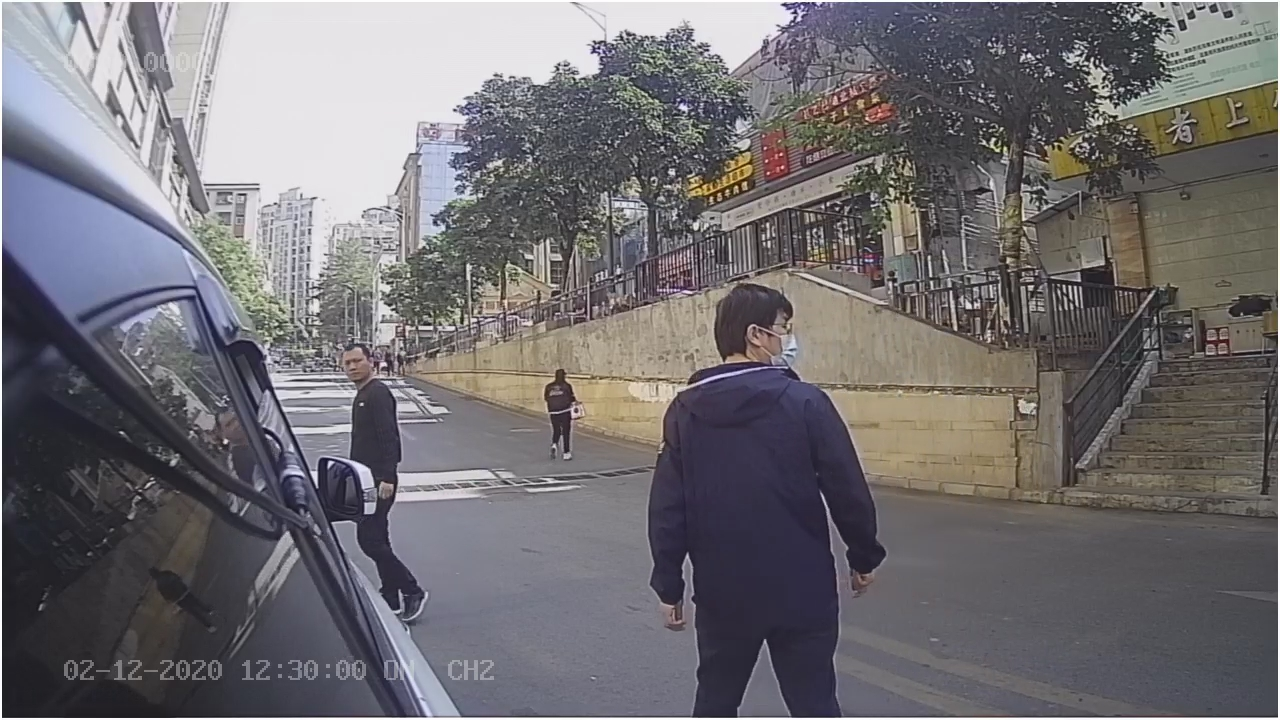person: (625, 279, 887, 632), (328, 339, 411, 452)
